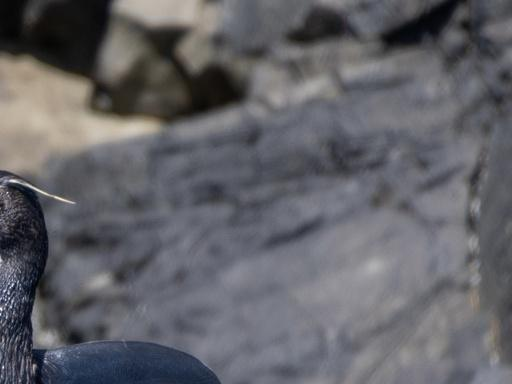Southern Rockhopper Penguin: (0, 124, 217, 384)
